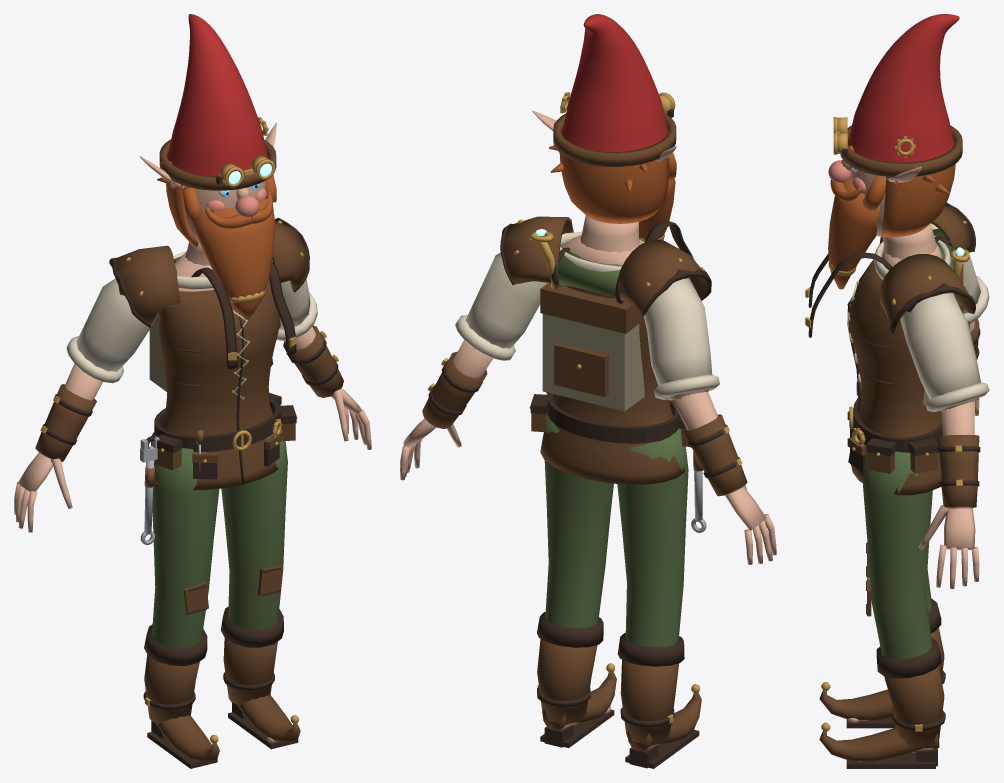
The picture shows the model from 3 angles, left to right: view 1: azimuth 30°, elevation 25°; view 2: azimuth 150°, elevation 25°; view 3: azimuth 270°, elevation 25°; orthographic projection. The views are drawn at different scales.
Visible parts, largest first — view 1: alt_gnome_tinker__OW_Armor_TinkerLeather_01_Chest, alt_gnome_tinker__OW_Armor_TinkerLeather_01_Legs, alt_gnome_tinker__OW_Armor_TinkerLeather_01_Feet, alt_gnome_tinker__OW_Armor_TinkerLeather_01_Head, alt_gnome_tinker__OW_Armor_TinkerLeather_01_Arms, alt_gnome_tinker__OW_Char_Gnome_01_Body_Head, alt_gnome_tinker__OW_Armor_TinkerLeather_01_Shoulders, alt_gnome_tinker__OW_Char_Gnome_01_Body_Hands, alt_gnome_tinker__OW_Armor_TinkerLeather_01_Back, alt_gnome_tinker__OW_Armor_TinkerLeather_01_Weapon_Hip, alt_gnome_tinker__OW_Char_Gnome_01_Body_Arms; view 2: alt_gnome_tinker__OW_Armor_TinkerLeather_01_Legs, alt_gnome_tinker__OW_Armor_TinkerLeather_01_Arms, alt_gnome_tinker__OW_Armor_TinkerLeather_01_Feet, alt_gnome_tinker__OW_Armor_TinkerLeather_01_Back, alt_gnome_tinker__OW_Armor_TinkerLeather_01_Head, alt_gnome_tinker__OW_Armor_TinkerLeather_01_Chest, alt_gnome_tinker__OW_Char_Gnome_01_Body_Head, alt_gnome_tinker__OW_Armor_TinkerLeather_01_Shoulders, alt_gnome_tinker__OW_Char_Gnome_01_Body_Hands, alt_gnome_tinker__OW_Char_Gnome_01_Body_Arms, alt_gnome_tinker__OW_Char_Gnome_01_Body_Torso, alt_gnome_tinker__OW_Armor_TinkerLeather_01_Weapon_Hip; view 3: alt_gnome_tinker__OW_Armor_TinkerLeather_01_Chest, alt_gnome_tinker__OW_Armor_TinkerLeather_01_Head, alt_gnome_tinker__OW_Armor_TinkerLeather_01_Legs, alt_gnome_tinker__OW_Armor_TinkerLeather_01_Feet, alt_gnome_tinker__OW_Armor_TinkerLeather_01_Arms, alt_gnome_tinker__OW_Char_Gnome_01_Body_Head, alt_gnome_tinker__OW_Armor_TinkerLeather_01_Shoulders, alt_gnome_tinker__OW_Char_Gnome_01_Body_Hands, alt_gnome_tinker__OW_Armor_TinkerLeather_01_Back, alt_gnome_tinker__OW_Char_Gnome_01_Body_Arms.
Boxes of the visible parts, <box> form: alt_gnome_tinker__OW_Armor_TinkerLeather_01_Chest: <box>153,251,297,490</box>; alt_gnome_tinker__OW_Armor_TinkerLeather_01_Legs: <box>151,429,287,647</box>; alt_gnome_tinker__OW_Armor_TinkerLeather_01_Feet: <box>143,606,300,768</box>; alt_gnome_tinker__OW_Armor_TinkerLeather_01_Head: <box>159,14,276,190</box>; alt_gnome_tinker__OW_Armor_TinkerLeather_01_Arms: <box>35,278,343,461</box>; alt_gnome_tinker__OW_Char_Gnome_01_Body_Head: <box>139,123,276,319</box>; alt_gnome_tinker__OW_Armor_TinkerLeather_01_Shoulders: <box>109,217,309,327</box>; alt_gnome_tinker__OW_Char_Gnome_01_Body_Hands: <box>14,388,371,532</box>; alt_gnome_tinker__OW_Armor_TinkerLeather_01_Back: <box>149,256,296,391</box>; alt_gnome_tinker__OW_Armor_TinkerLeather_01_Weapon_Hip: <box>140,436,159,544</box>; alt_gnome_tinker__OW_Char_Gnome_01_Body_Arms: <box>38,261,315,459</box>; alt_gnome_tinker__OW_Armor_TinkerLeather_01_Legs: <box>544,413,688,647</box>; alt_gnome_tinker__OW_Armor_TinkerLeather_01_Arms: <box>422,252,747,496</box>; alt_gnome_tinker__OW_Armor_TinkerLeather_01_Feet: <box>537,612,701,768</box>; alt_gnome_tinker__OW_Armor_TinkerLeather_01_Back: <box>529,221,693,411</box>; alt_gnome_tinker__OW_Armor_TinkerLeather_01_Head: <box>553,14,676,166</box>; alt_gnome_tinker__OW_Armor_TinkerLeather_01_Chest: <box>529,232,689,484</box>; alt_gnome_tinker__OW_Char_Gnome_01_Body_Head: <box>532,110,676,252</box>; alt_gnome_tinker__OW_Armor_TinkerLeather_01_Shoulders: <box>500,216,711,316</box>; alt_gnome_tinker__OW_Char_Gnome_01_Body_Hands: <box>400,418,776,564</box>; alt_gnome_tinker__OW_Char_Gnome_01_Body_Arms: <box>453,340,744,495</box>; alt_gnome_tinker__OW_Char_Gnome_01_Body_Torso: <box>560,235,642,265</box>; alt_gnome_tinker__OW_Armor_TinkerLeather_01_Weapon_Hip: <box>687,440,706,532</box>; alt_gnome_tinker__OW_Armor_TinkerLeather_01_Chest: <box>847,235,951,495</box>; alt_gnome_tinker__OW_Armor_TinkerLeather_01_Head: <box>833,14,962,176</box>; alt_gnome_tinker__OW_Armor_TinkerLeather_01_Legs: <box>863,444,938,659</box>; alt_gnome_tinker__OW_Armor_TinkerLeather_01_Feet: <box>819,598,945,768</box>; alt_gnome_tinker__OW_Armor_TinkerLeather_01_Arms: <box>900,223,989,507</box>; alt_gnome_tinker__OW_Char_Gnome_01_Body_Head: <box>828,131,955,289</box>; alt_gnome_tinker__OW_Armor_TinkerLeather_01_Shoulders: <box>879,202,975,334</box>; alt_gnome_tinker__OW_Char_Gnome_01_Body_Hands: <box>919,398,979,588</box>; alt_gnome_tinker__OW_Armor_TinkerLeather_01_Back: <box>805,228,969,404</box>; alt_gnome_tinker__OW_Char_Gnome_01_Body_Arms: <box>932,227,978,508</box>.
Bounding box in the file's own units: 0.6527 × 1.26 × 0.2882.
